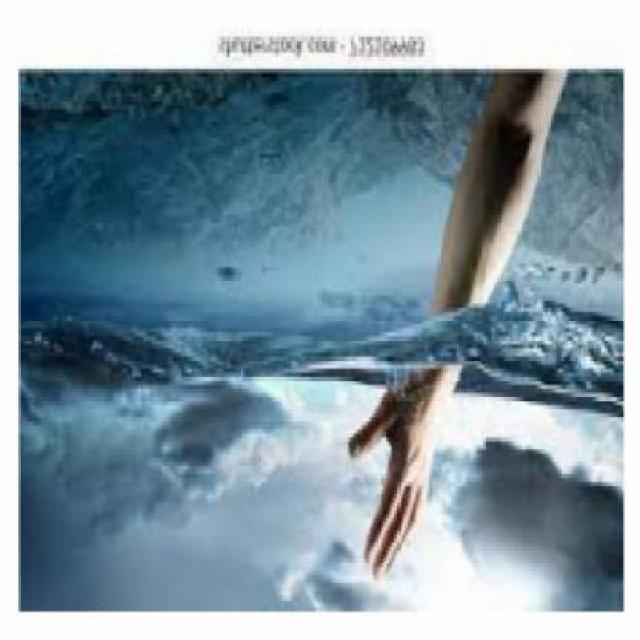drowning: (346, 71, 569, 564)
